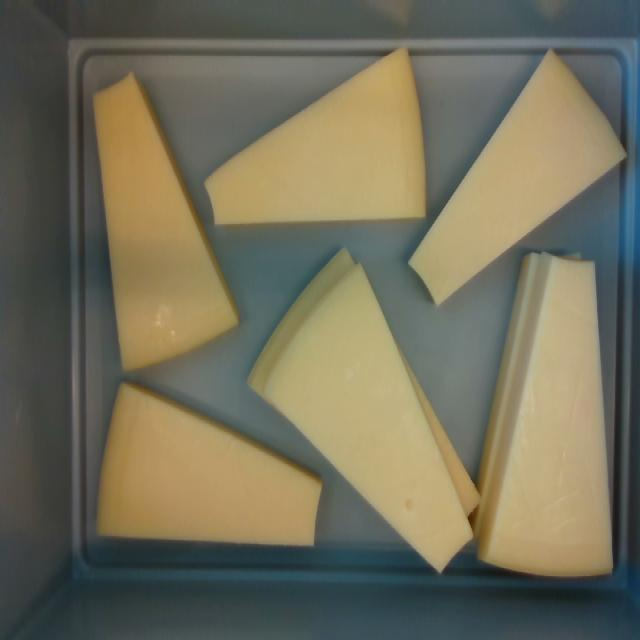cheese: (257, 265, 474, 571), (409, 52, 624, 304), (95, 75, 236, 368), (487, 256, 610, 573), (206, 51, 424, 224), (98, 384, 321, 544)
